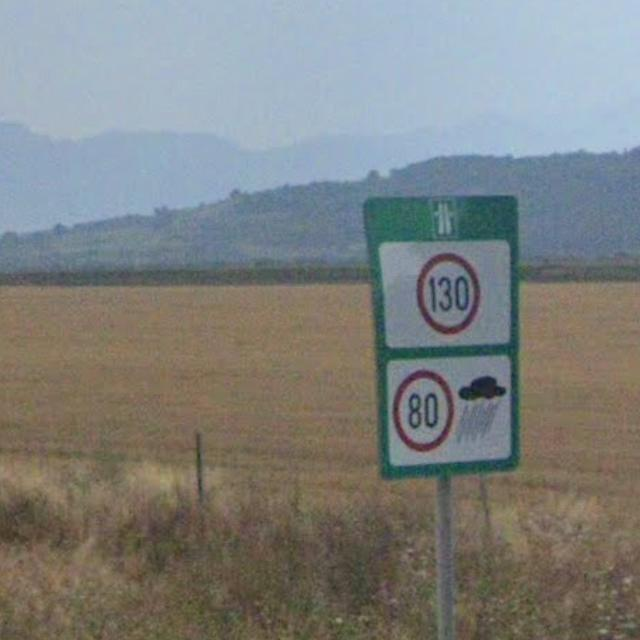forb_speed_over_80: (392, 368, 457, 451)
